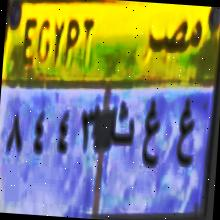3: (76, 103, 100, 157)
4: (53, 104, 71, 162), (30, 107, 48, 164)
8: (2, 109, 25, 168)
ghayn: (170, 94, 200, 182), (138, 90, 166, 178)
thaa: (108, 99, 139, 159)
